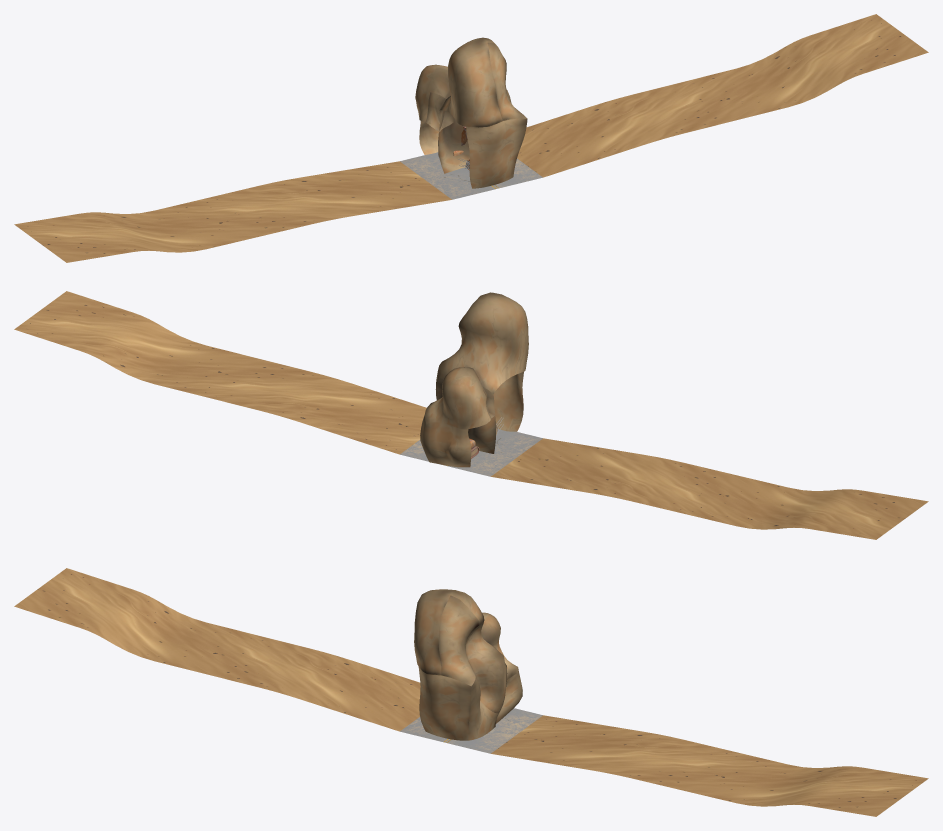
The model's file is Enviroment1Packaged.gltf.
The picture shows the model from 3 angles, top to bottom: view 1: azimuth 30°, elevation 25°; view 2: azimuth 150°, elevation 25°; view 3: azimuth 330°, elevation 25°; orthographic projection.
Visible parts, largest first — view 1: SideRailing, Rocks22, Ground; view 2: SideRailing, Rocks22, Ground; view 3: SideRailing, Rocks22, Ground.
Part boxes in pixels (x1,y1,x2,y2): SideRailing: [14, 14, 928, 262]; Rocks22: [415, 37, 527, 188]; Ground: [400, 152, 542, 199]; SideRailing: [14, 291, 928, 539]; Rocks22: [420, 292, 528, 467]; Ground: [400, 429, 542, 476]; SideRailing: [14, 568, 928, 816]; Rocks22: [414, 589, 522, 740]; Ground: [400, 708, 542, 753].
Size of the model in its own units: 125 by 19.81 by 16.38.
11 materials, 10 textured.
